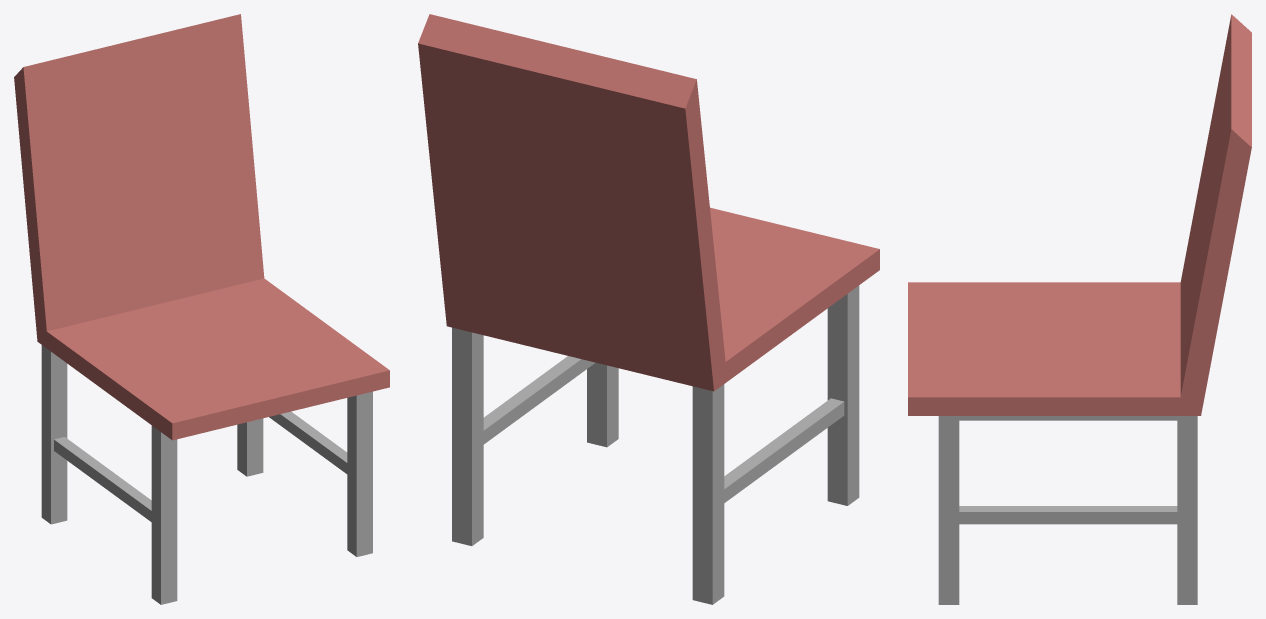
The model's file is Chair4.fbx.
3 renders of one model, left to right at view 1: azimuth 30°, elevation 25°; view 2: azimuth 150°, elevation 25°; view 3: azimuth 270°, elevation 25°, orthographic. The views are drawn at different scales.
Visible parts, largest first — view 1: Cube; view 2: Cube; view 3: Cube.
Part boxes in pixels (box(x1,y1,x2,y2)): Cube: box(14, 14, 389, 604); Cube: box(418, 14, 879, 604); Cube: box(908, 14, 1251, 604).
Bounding box in the file's own units: 0.76 × 1.47 × 0.9587.
